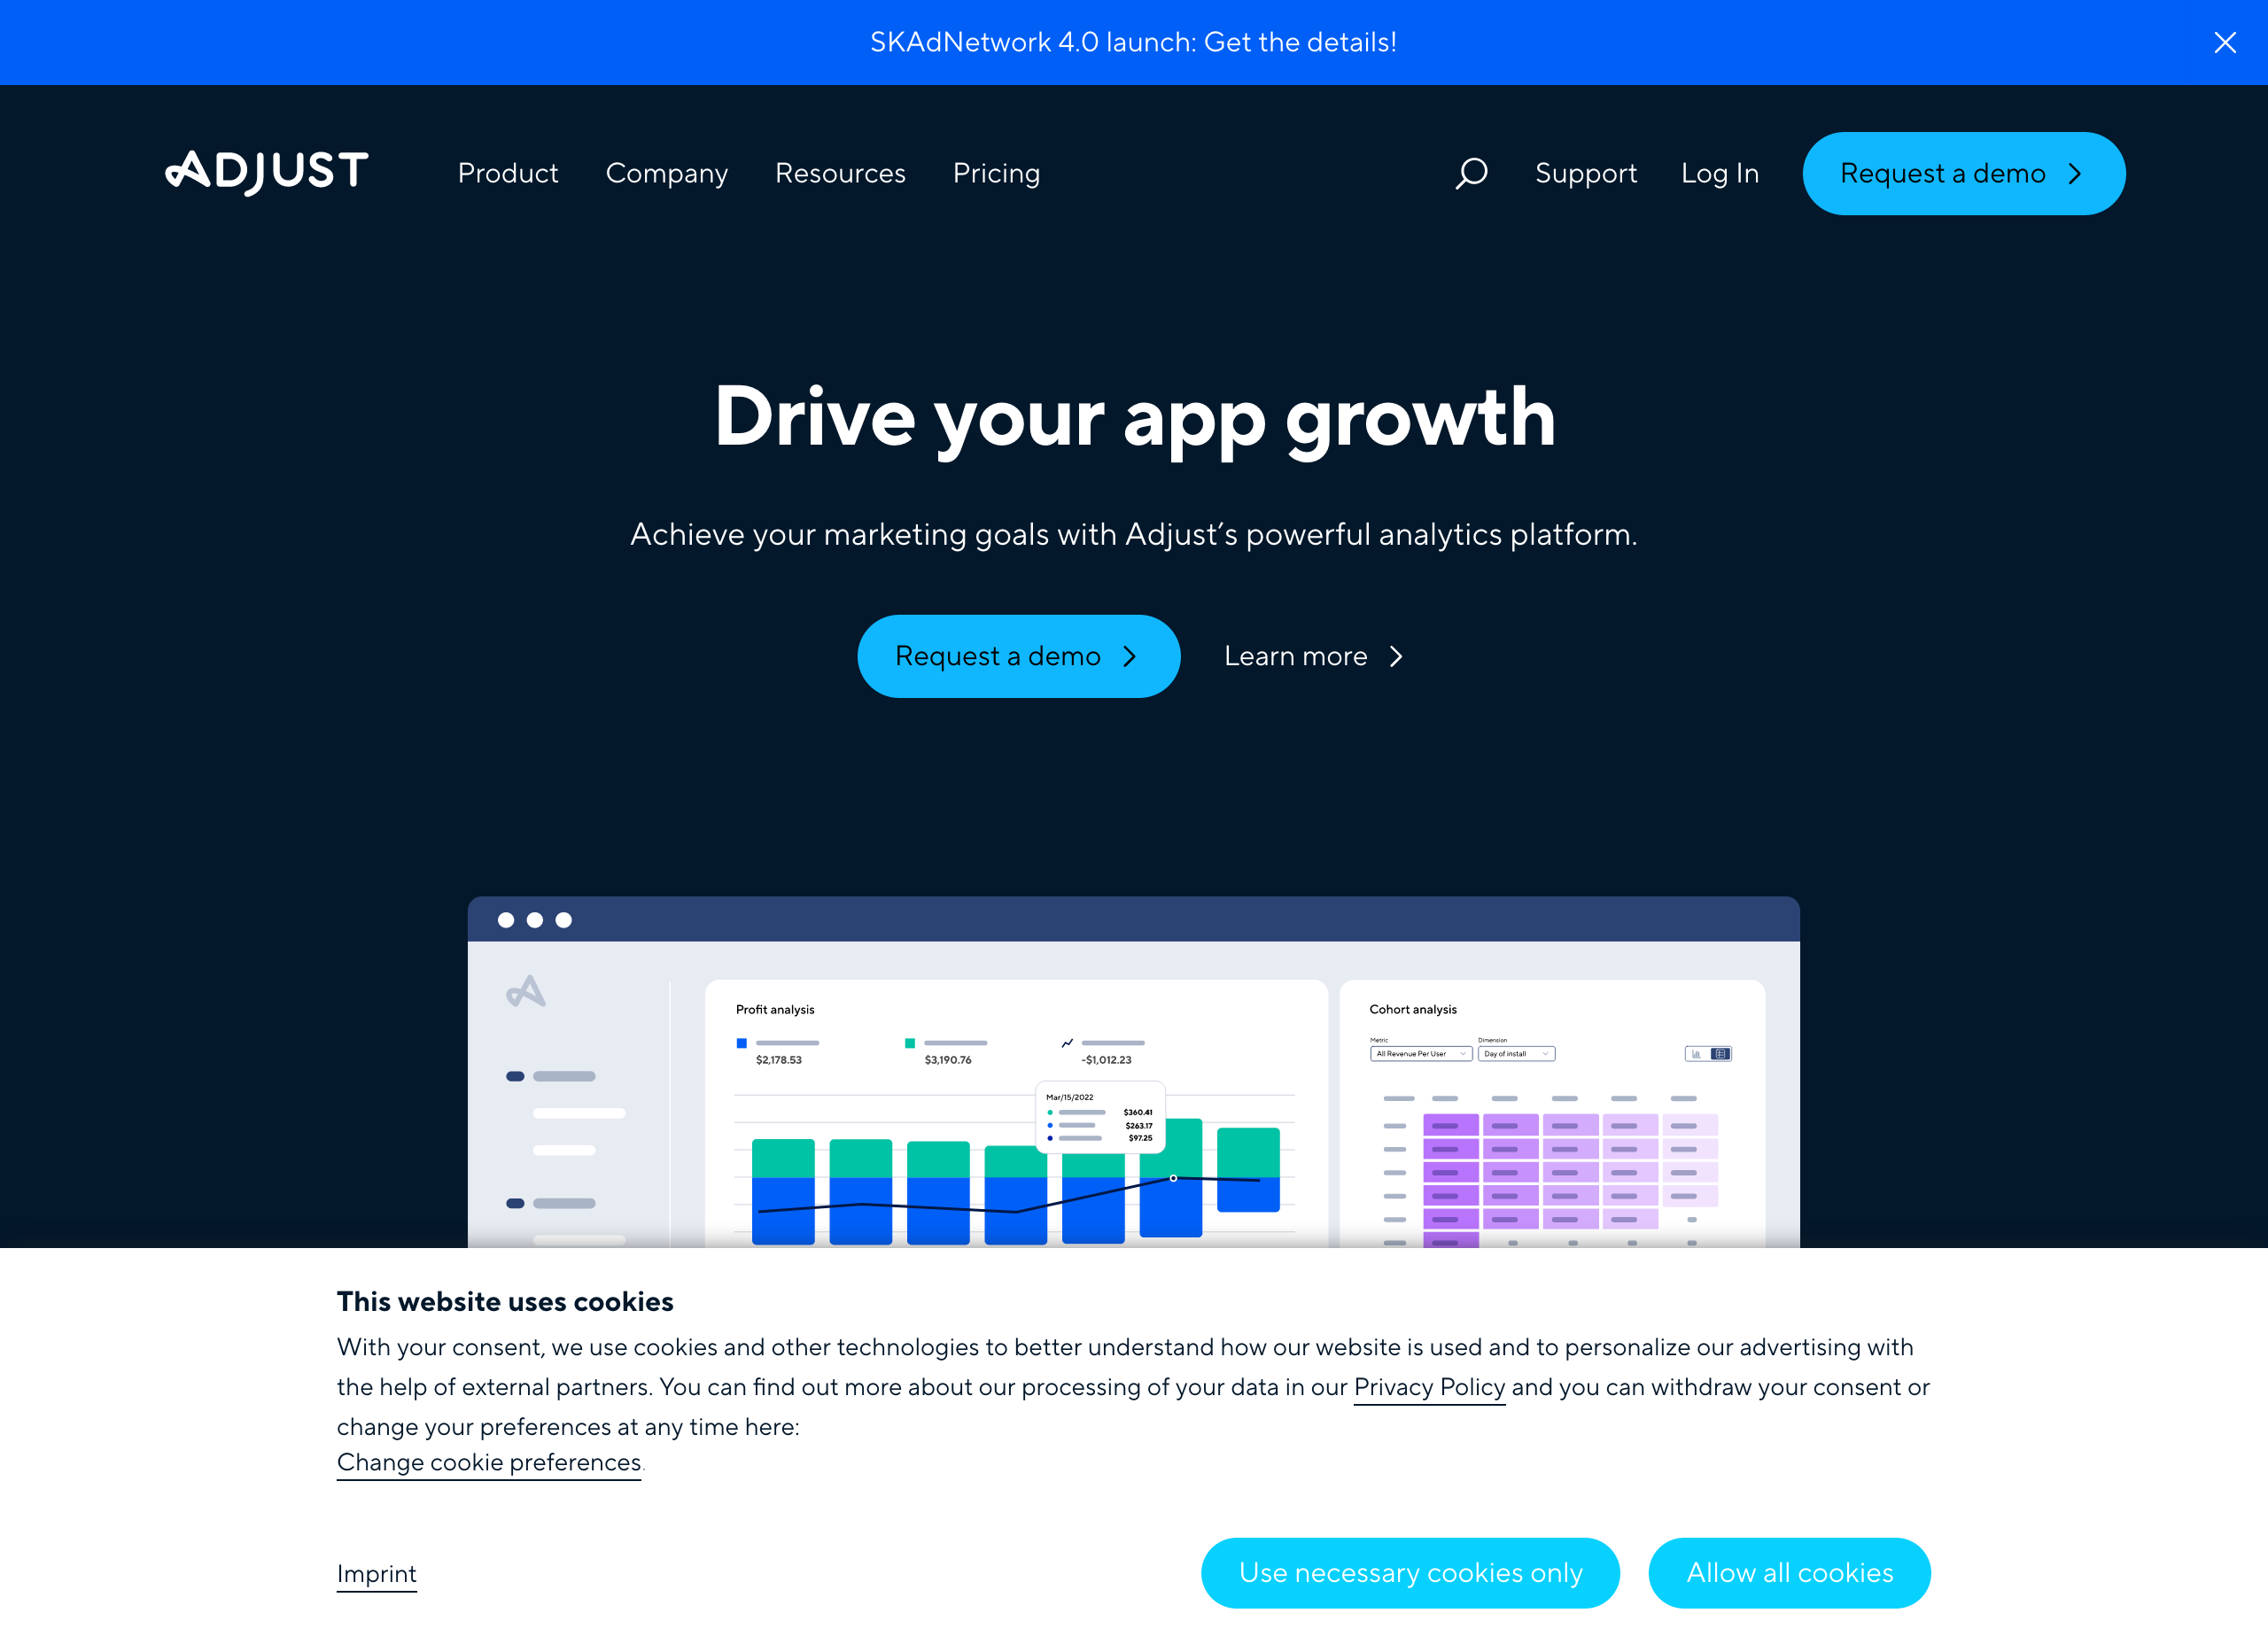Login: (1673, 150, 1770, 197)
